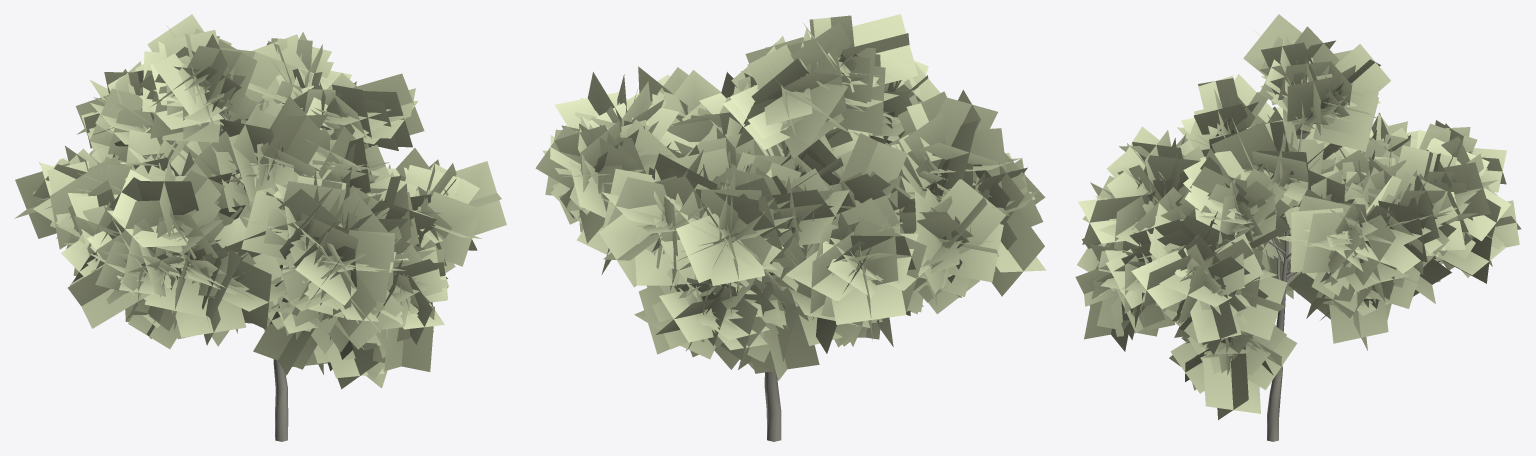
The model's file is maple2.glb.
3 views of the same model, side by side, from view 1: azimuth 30°, elevation 25°; view 2: azimuth 150°, elevation 25°; view 3: azimuth 270°, elevation 25° (orthographic). The views are drawn at different scales.
Size of the model in its own units: 9.39 by 9 by 9.63.
